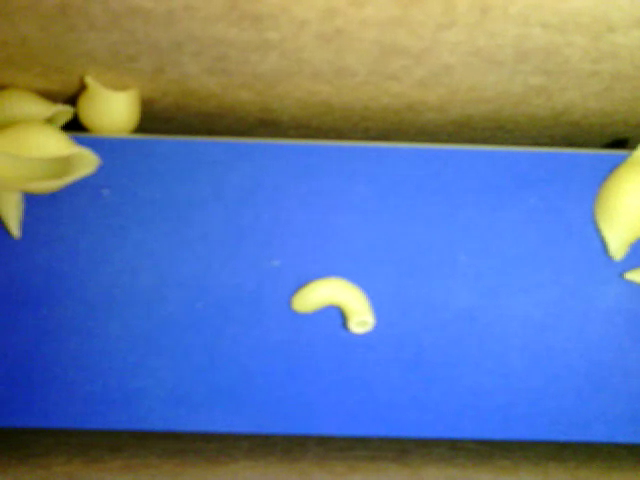elbow: (289, 274, 375, 335)
penne: (1, 167, 30, 241), (615, 267, 639, 292)
shell: (1, 115, 104, 197), (587, 139, 639, 259), (73, 74, 144, 136), (1, 88, 73, 133)
